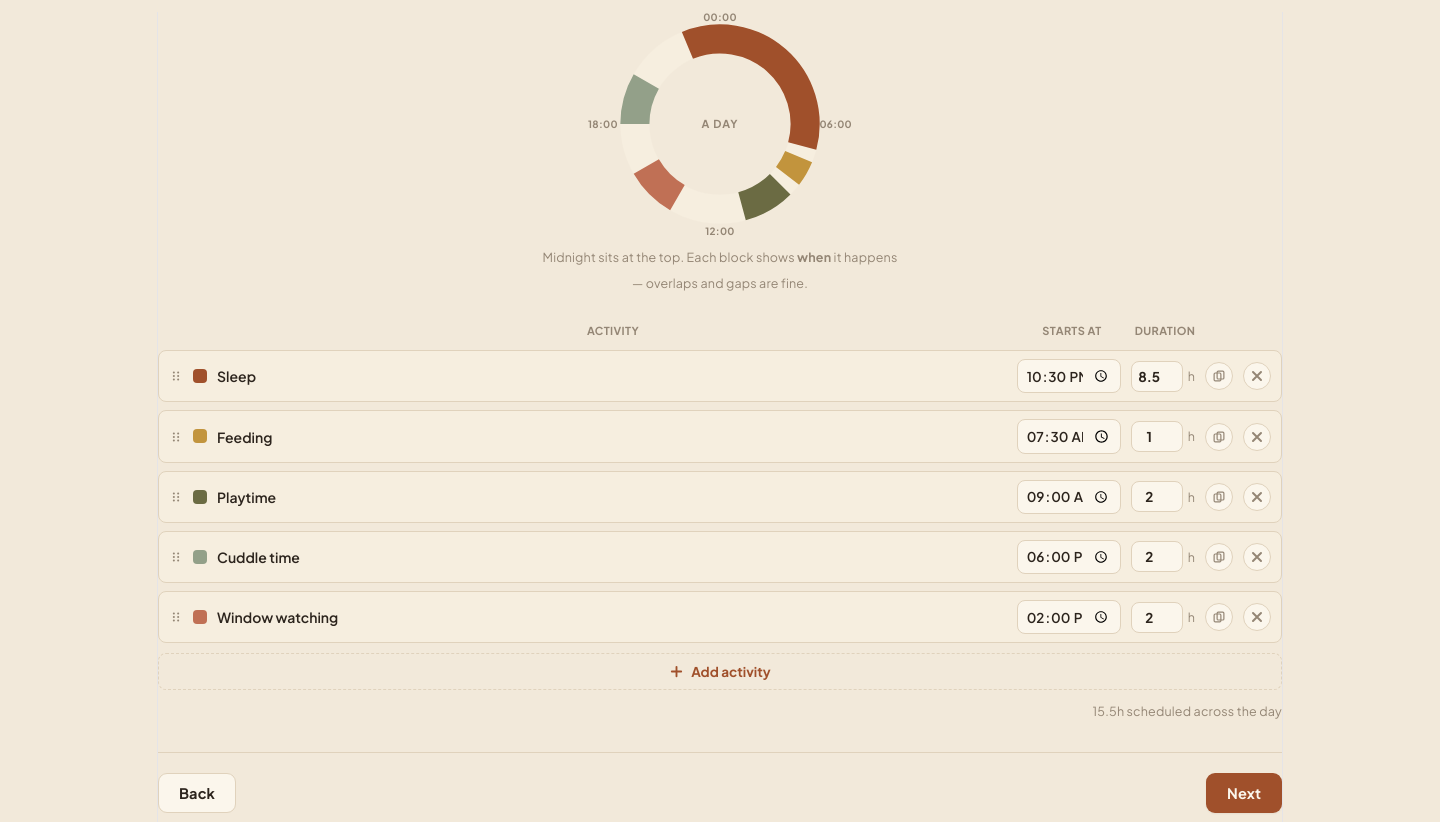
Test: RoutineStep add and remove slots › clicking Add slot appends a new editable row
Click the button "Add activity" at [720, 672], box [158,653,1282,690]
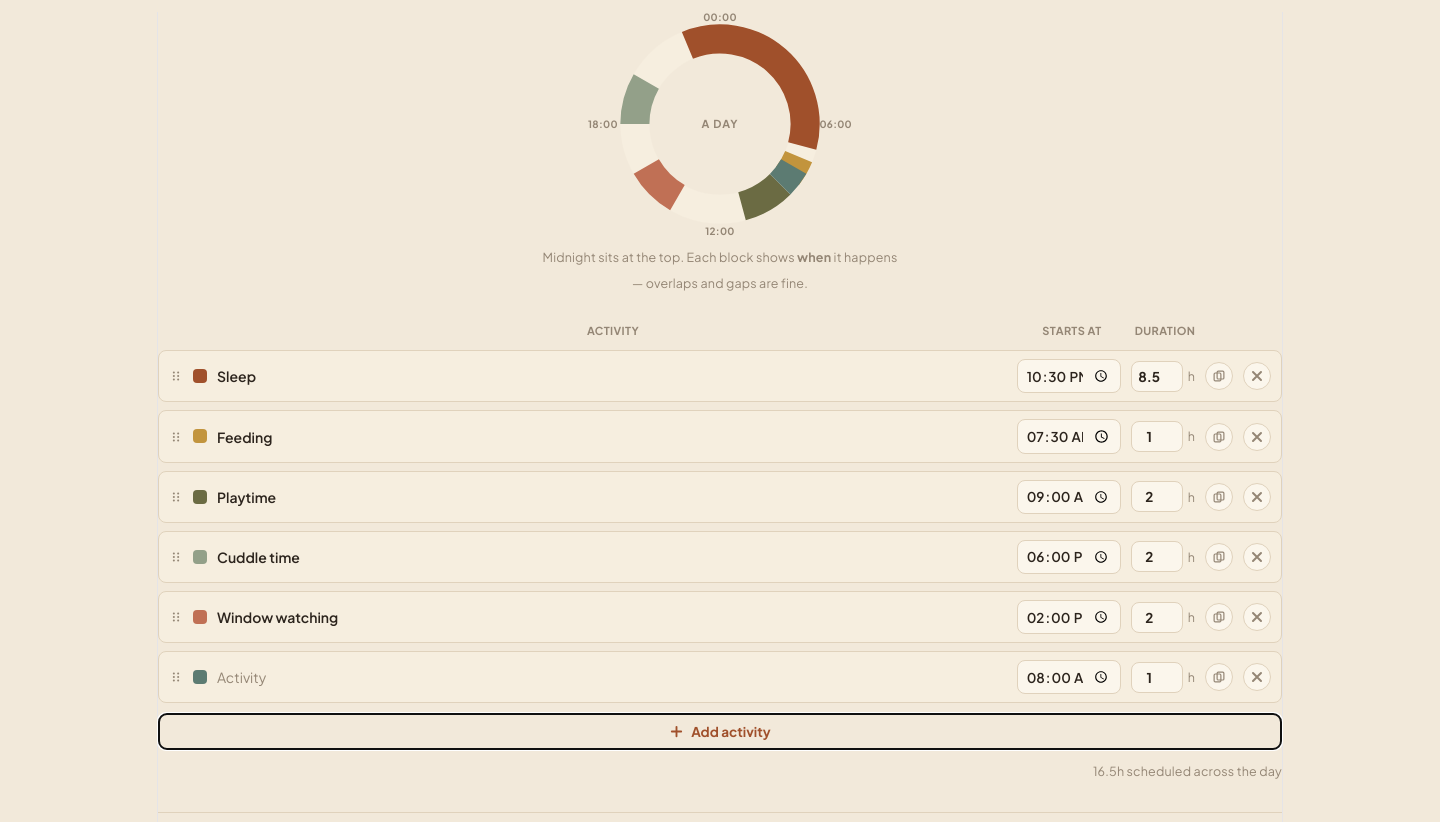
Check: the number of buttons named "remove slot" is 6, box [1243,362,1271,390]; [1243,422,1271,450]; [1243,483,1271,511]; [1243,543,1271,571]; [1243,603,1271,631]; [1243,663,1271,691]
